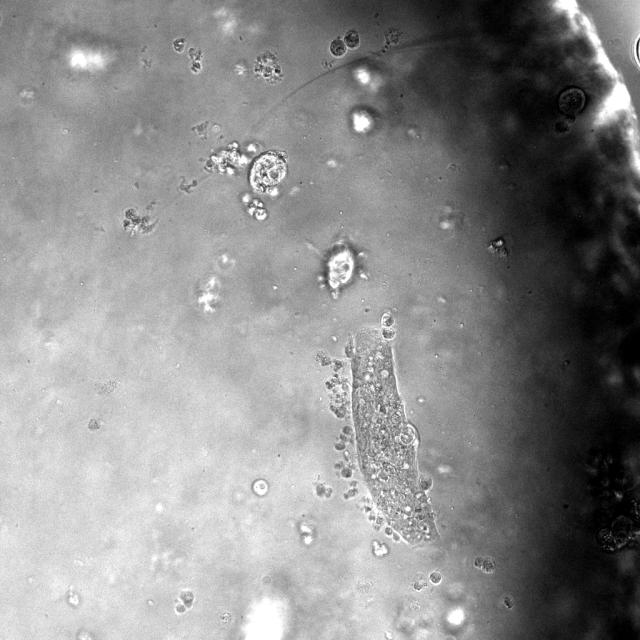organoid: (316, 311, 437, 544), (598, 499, 639, 552), (248, 151, 288, 197), (205, 141, 260, 174), (554, 86, 586, 134), (329, 30, 359, 56), (241, 193, 268, 220), (175, 590, 194, 614), (474, 556, 496, 573), (314, 479, 332, 498), (429, 570, 441, 584), (413, 580, 426, 591), (504, 595, 513, 608)
